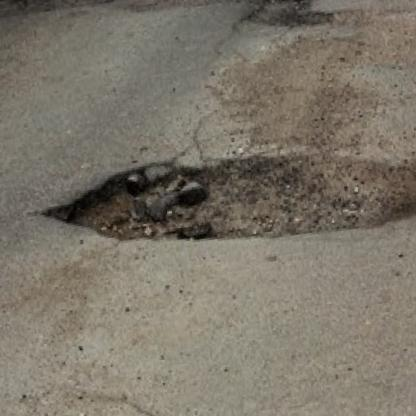pothole: (39, 119, 416, 274), (242, 0, 335, 39)
